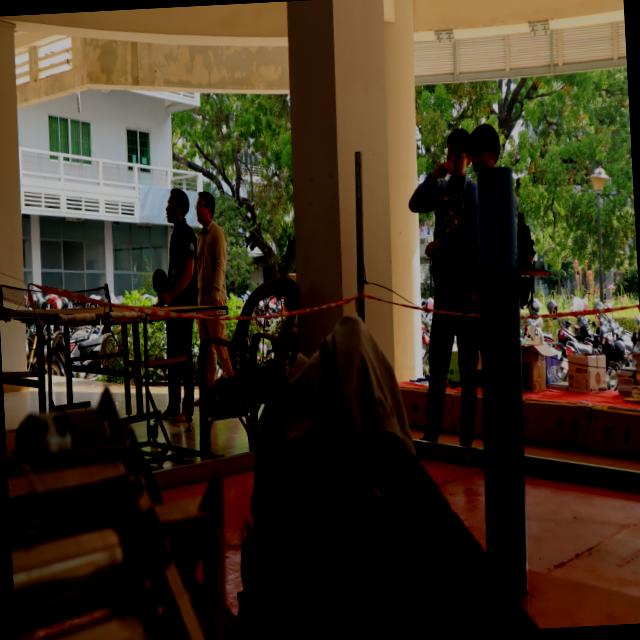pole: (442, 156, 562, 409)
